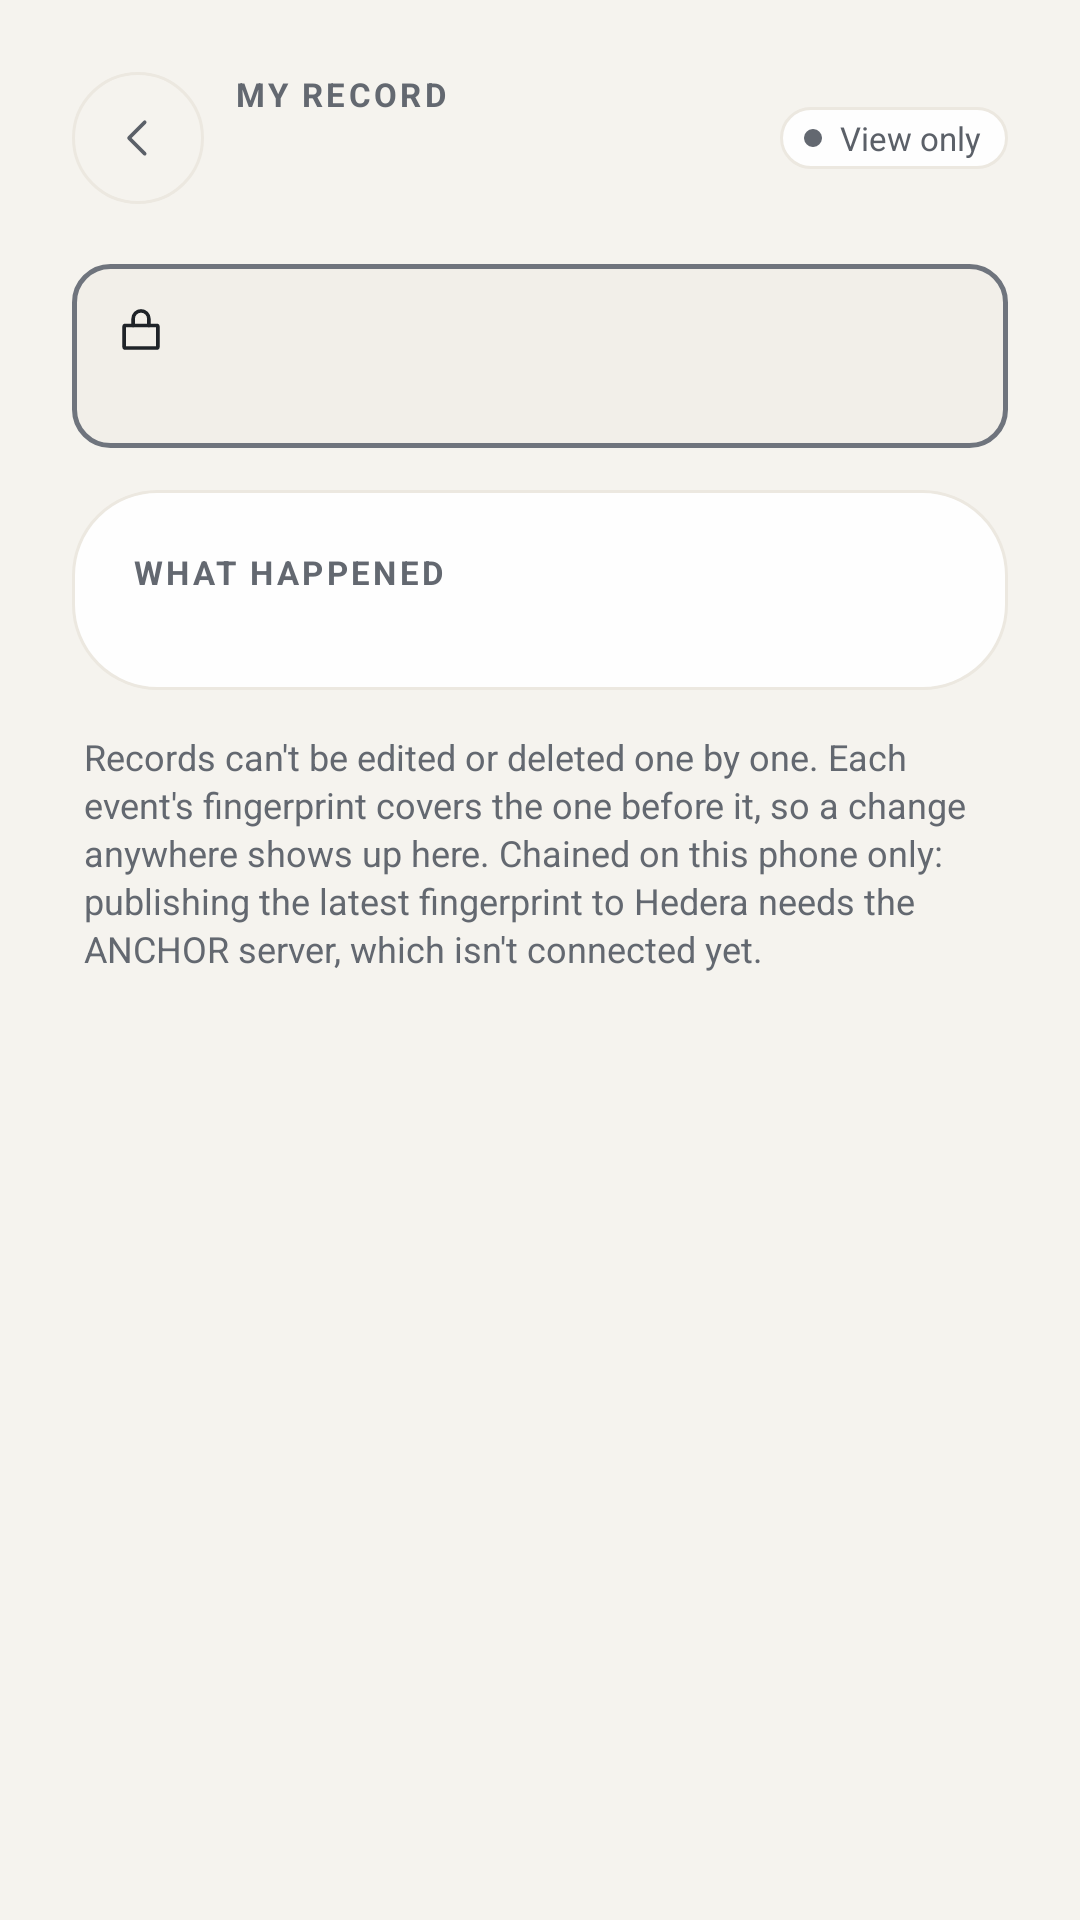

Icon bounding boxes for this 1080px×1920px phone screenshot, format bbox=(x1, y1, x2, y2):
Back: bbox=(127, 120, 147, 156)
lock: bbox=(122, 309, 160, 350)
